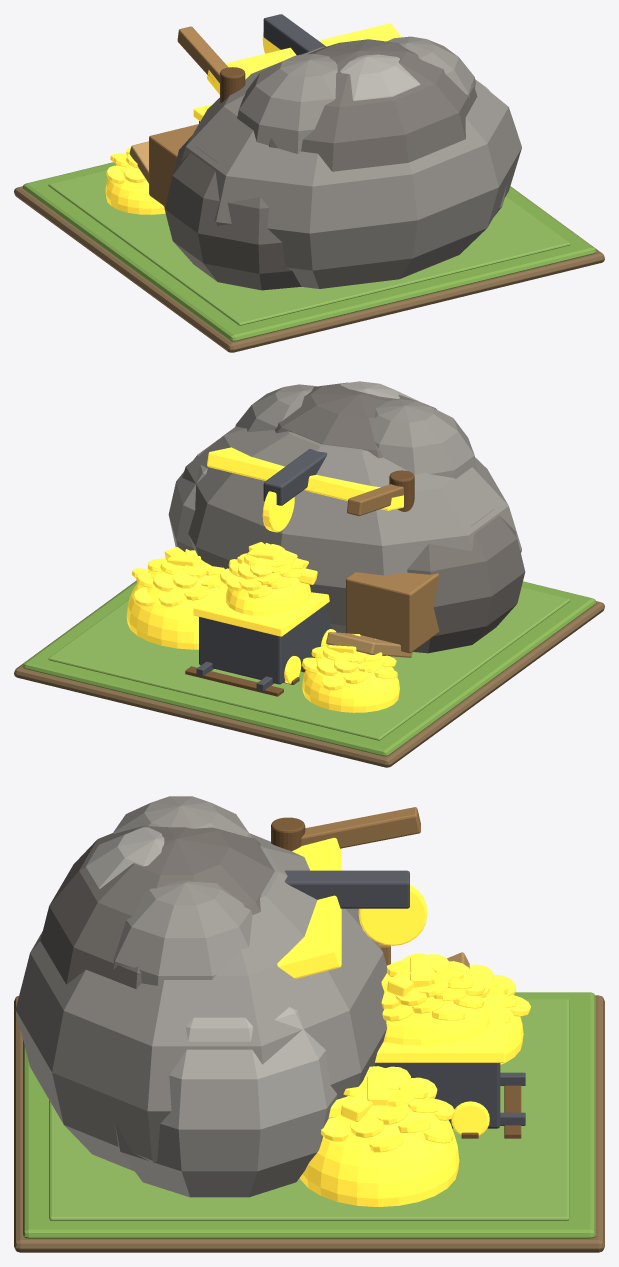
File: gold_mine_lv4.glb
The picture shows the model from 3 angles, top to bottom: view 1: azimuth 30°, elevation 25°; view 2: azimuth 150°, elevation 25°; view 3: azimuth 270°, elevation 25°; orthographic projection. The views are drawn at different scales.
Visible parts, largest first — view 1: MineRock_0, Base_Inner, MineRock_3, Base_Grass, MineRock_1, Base_Dirt, MineRock_4, MineRock_6, OreHopperBin, PortalRoof, MineRock_5, GoldMoundBase.002 (+4 smaller); view 2: MineRock_0, Base_Inner, Base_Grass, MineRock_1, Base_Dirt, OreHopperBin, MineRock_4, MinecartBody, MineRock_3, GoldMoundBase.001, GoldMoundBase.002, PortalRoof (+11 smaller); view 3: MineRock_0, Base_Inner, MineRock_2, Base_Grass, MineRock_3, Base_Dirt, MineRock_5, GoldMoundBase.001, PortalRoof, HoistBeam, MinecartRim, MinecartBody (+12 smaller).
Boxes of the visible parts, <box> form: MineRock_0: <box>181,47,521,288</box>; Base_Inner: <box>48,170,570,325</box>; MineRock_3: <box>269,39,477,171</box>; Base_Grass: <box>23,162,595,341</box>; MineRock_1: <box>164,136,301,290</box>; Base_Dirt: <box>14,186,604,352</box>; MineRock_4: <box>237,53,337,153</box>; MineRock_6: <box>340,54,420,100</box>; OreHopperBin: <box>149,124,198,206</box>; PortalRoof: <box>207,23,401,94</box>; MineRock_5: <box>387,36,475,99</box>; GoldMoundBase.002: <box>105,164,165,214</box>; MineRock_0: <box>182,426,521,633</box>; Base_Inner: <box>48,587,570,740</box>; Base_Grass: <box>23,581,595,756</box>; MineRock_1: <box>407,509,525,653</box>; Base_Dirt: <box>14,580,604,767</box>; OreHopperBin: <box>346,572,439,653</box>; MineRock_4: <box>374,399,478,478</box>; MinecartBody: <box>199,604,332,684</box>; MineRock_3: <box>274,382,436,458</box>; GoldMoundBase.001: <box>126,561,224,649</box>; GoldMoundBase.002: <box>302,652,399,712</box>; PortalRoof: <box>207,447,403,510</box>; MineRock_0: <box>15,833,387,1171</box>; Base_Inner: <box>49,999,569,1220</box>; MineRock_2: <box>114,1007,337,1197</box>; Base_Grass: <box>23,992,595,1238</box>; MineRock_3: <box>40,825,274,988</box>; Base_Dirt: <box>14,995,604,1252</box>; MineRock_5: <box>113,880,252,985</box>; GoldMoundBase.001: <box>300,1080,459,1206</box>; PortalRoof: <box>277,837,341,978</box>; HoistBeam: <box>284,870,409,908</box>; MinecartRim: <box>375,993,505,1062</box>; MinecartBody: <box>374,1063,500,1128</box>.
Bounding box in the file's own units: 2.76 × 1.73 × 2.76.
